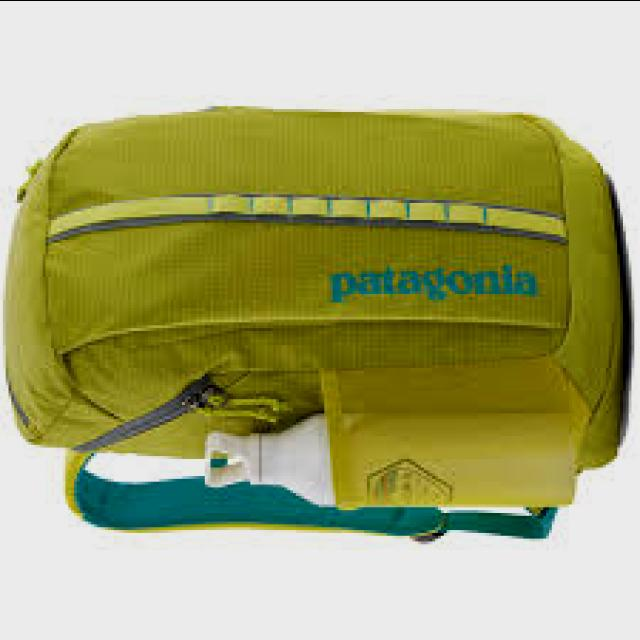backpack: (1, 107, 627, 545)
